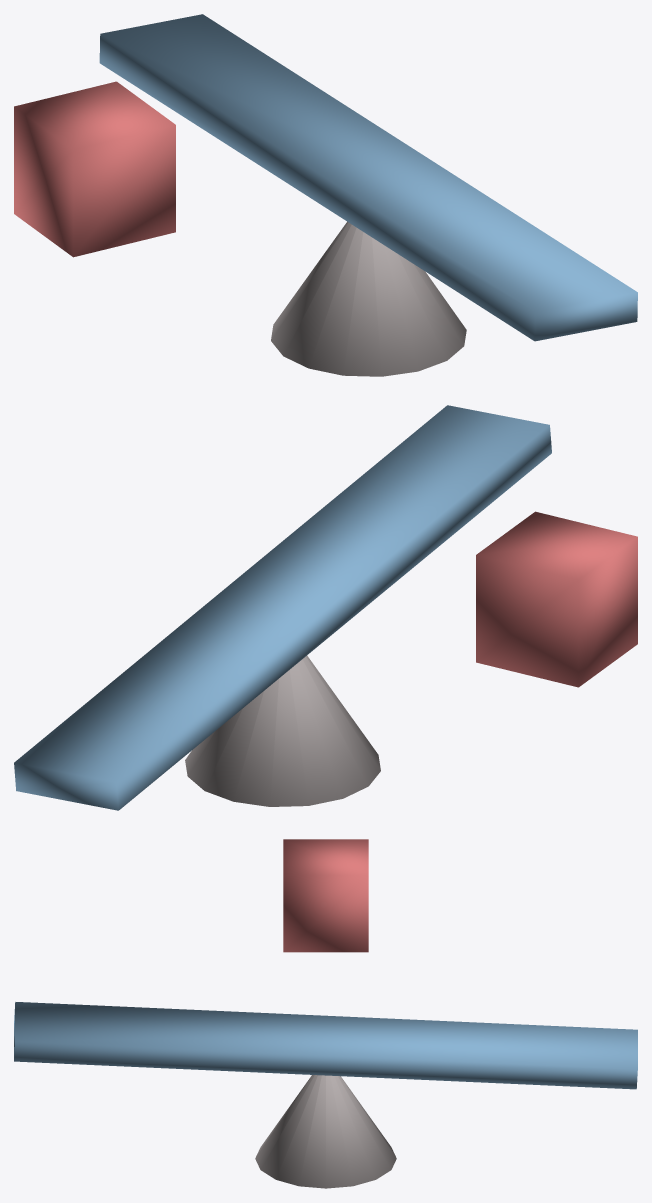
File: lever.glb
3 views of the same model, one above another, from view 1: azimuth 30°, elevation 25°; view 2: azimuth 150°, elevation 25°; view 3: azimuth 270°, elevation 25° (orthographic). The views are drawn at different scales.
Visible parts, largest first — view 1: beam, load, fulcrum; view 2: beam, load, fulcrum; view 3: beam, fulcrum, load.
Boxes of the visible parts, x1=… form: beam: x1=99, y1=14, x2=637, y2=341; load: x1=14, y1=81, x2=175, y2=257; fulcrum: x1=271, y1=221, x2=466, y2=376; beam: x1=14, y1=405, x2=551, y2=810; load: x1=476, y1=511, x2=637, y2=687; fulcrum: x1=185, y1=655, x2=380, y2=806; beam: x1=14, y1=1002, x2=637, y2=1089; fulcrum: x1=255, y1=1075, x2=396, y2=1188; load: x1=283, y1=839, x2=368, y2=952.
Bounding box in the file's own units: 1.2 × 0.8 × 2.2.
